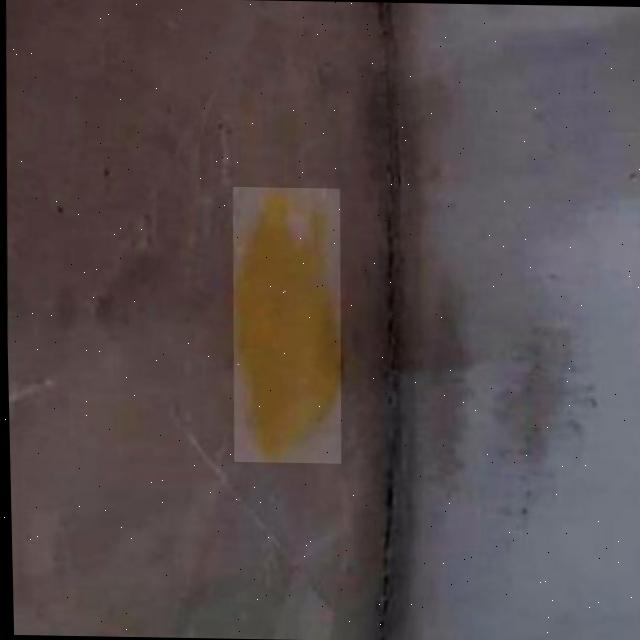spillage: (232, 186, 339, 460)
